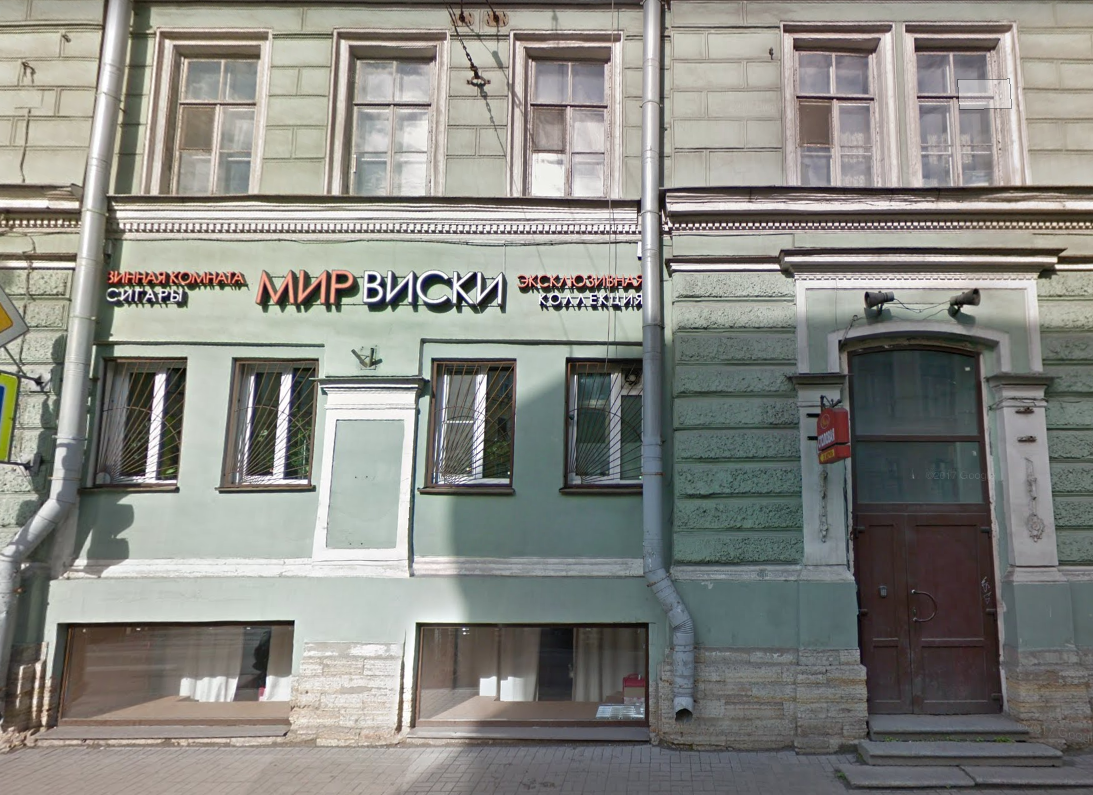cantilever: (797, 393, 860, 469)
door: (853, 507, 998, 709)
signboard: (99, 250, 646, 320)
window: (414, 623, 648, 732), (61, 623, 293, 731), (853, 346, 990, 506), (524, 51, 611, 202), (913, 46, 1002, 185), (790, 42, 870, 190), (345, 56, 426, 197), (173, 52, 250, 196), (431, 359, 513, 487), (562, 360, 646, 483), (231, 357, 310, 487), (101, 362, 180, 489)
